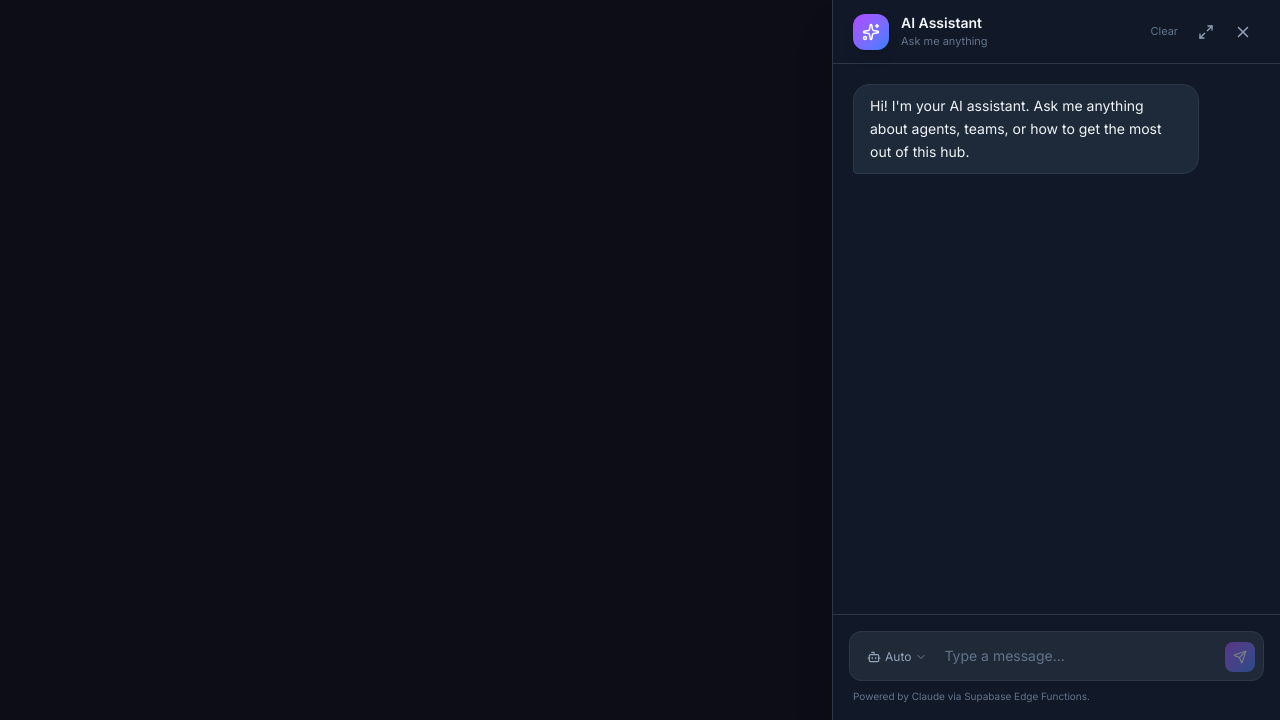
Test: AiAssistant › shows a configuration notice when orchestration is not configured
Type "hi" into the field with placeholder "Type a message...".
click(1081, 656); type("hi")  # box top-left (944, 640), bottom-right (1217, 672)
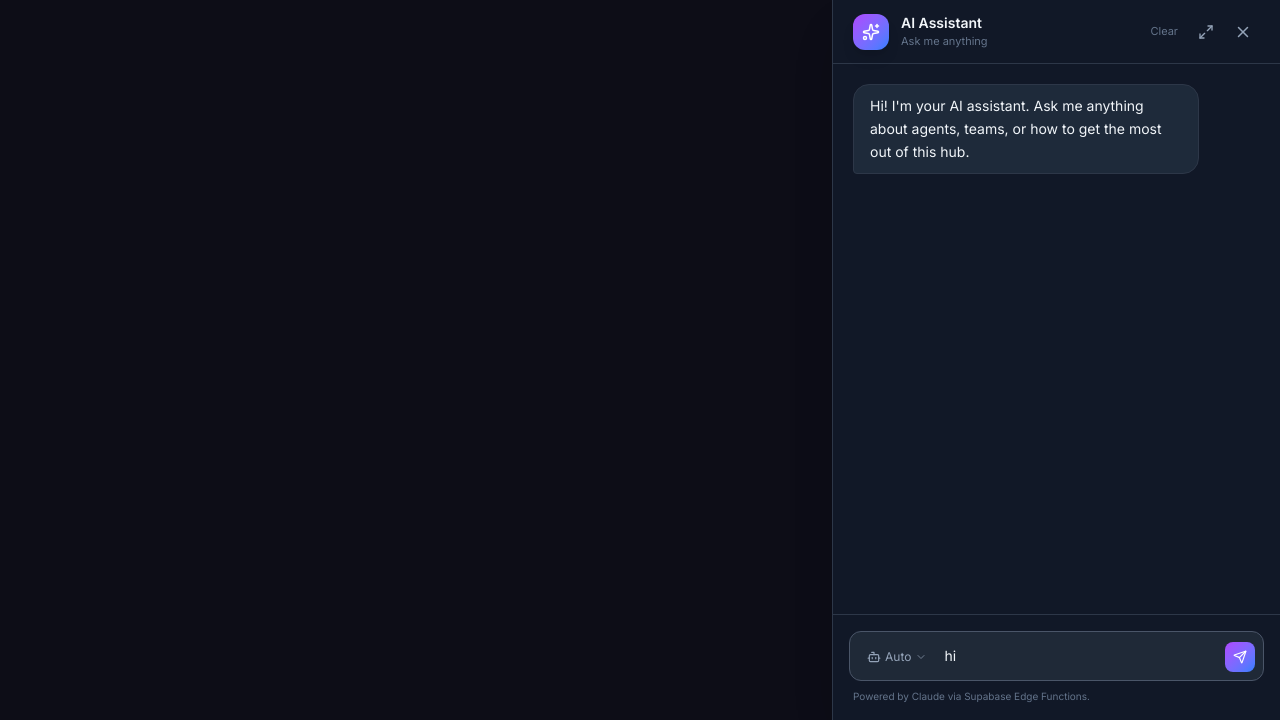
Click the button named "Send message".
click(1240, 657)  # box top-left (1225, 642), bottom-right (1255, 672)
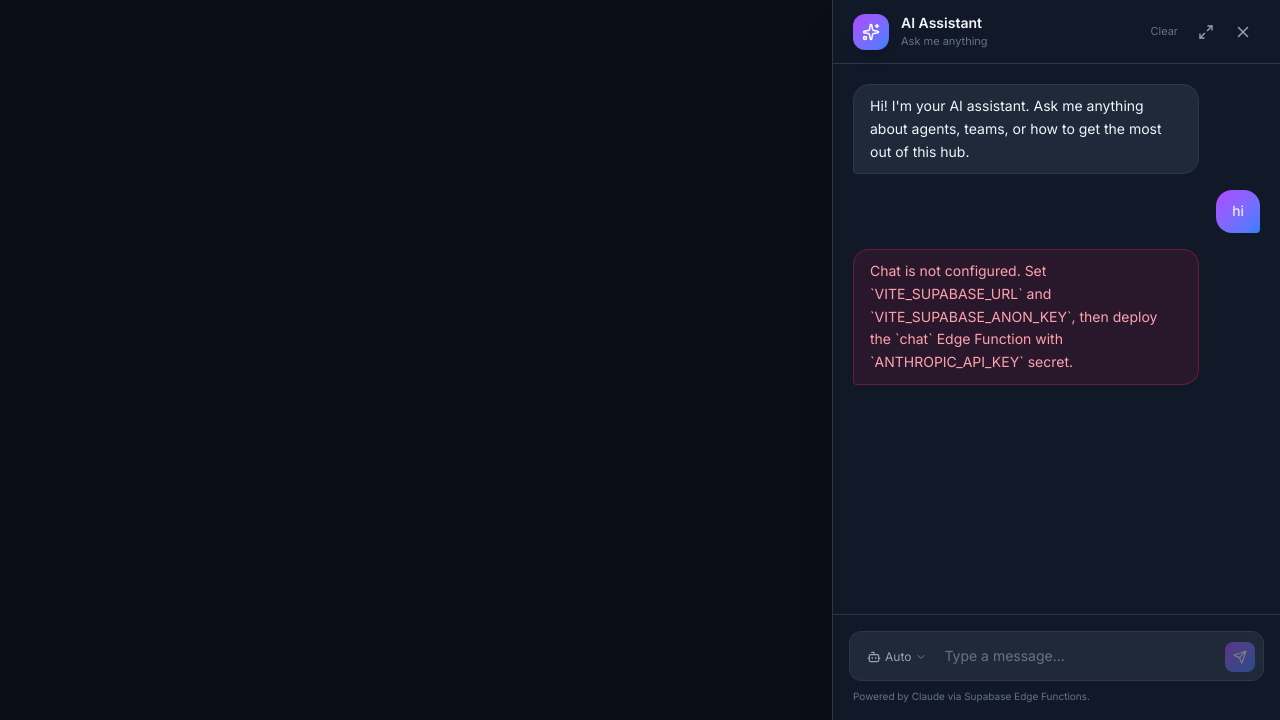
Check: the text "Chat is not configured" is shown, box top-left (870, 262), bottom-right (1161, 370)
